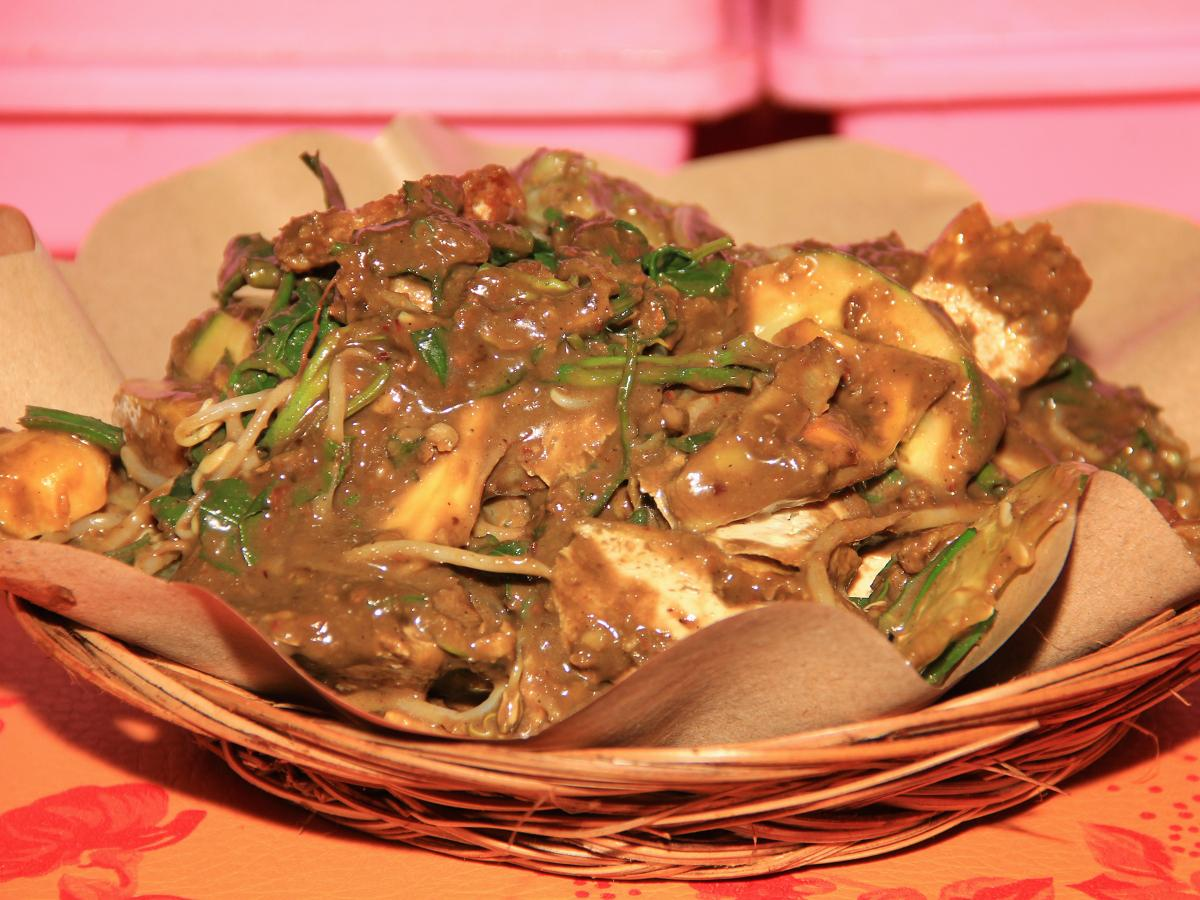rujak_cingur: (1, 153, 1200, 733)
